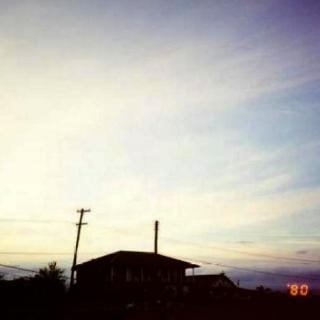Cirrostratus: (0, 0, 320, 286)
